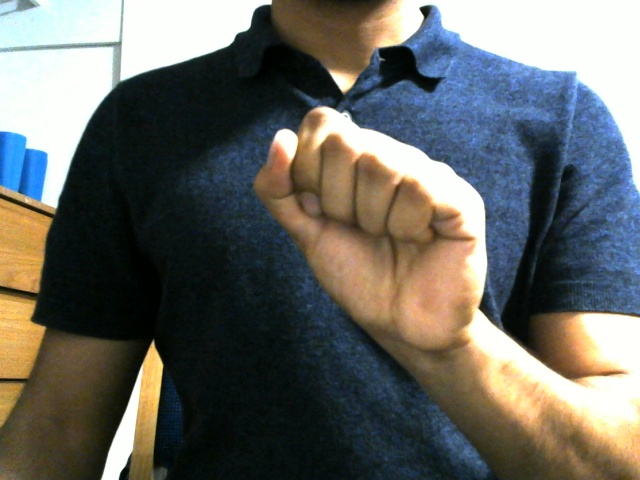A: (231, 104, 501, 360)
